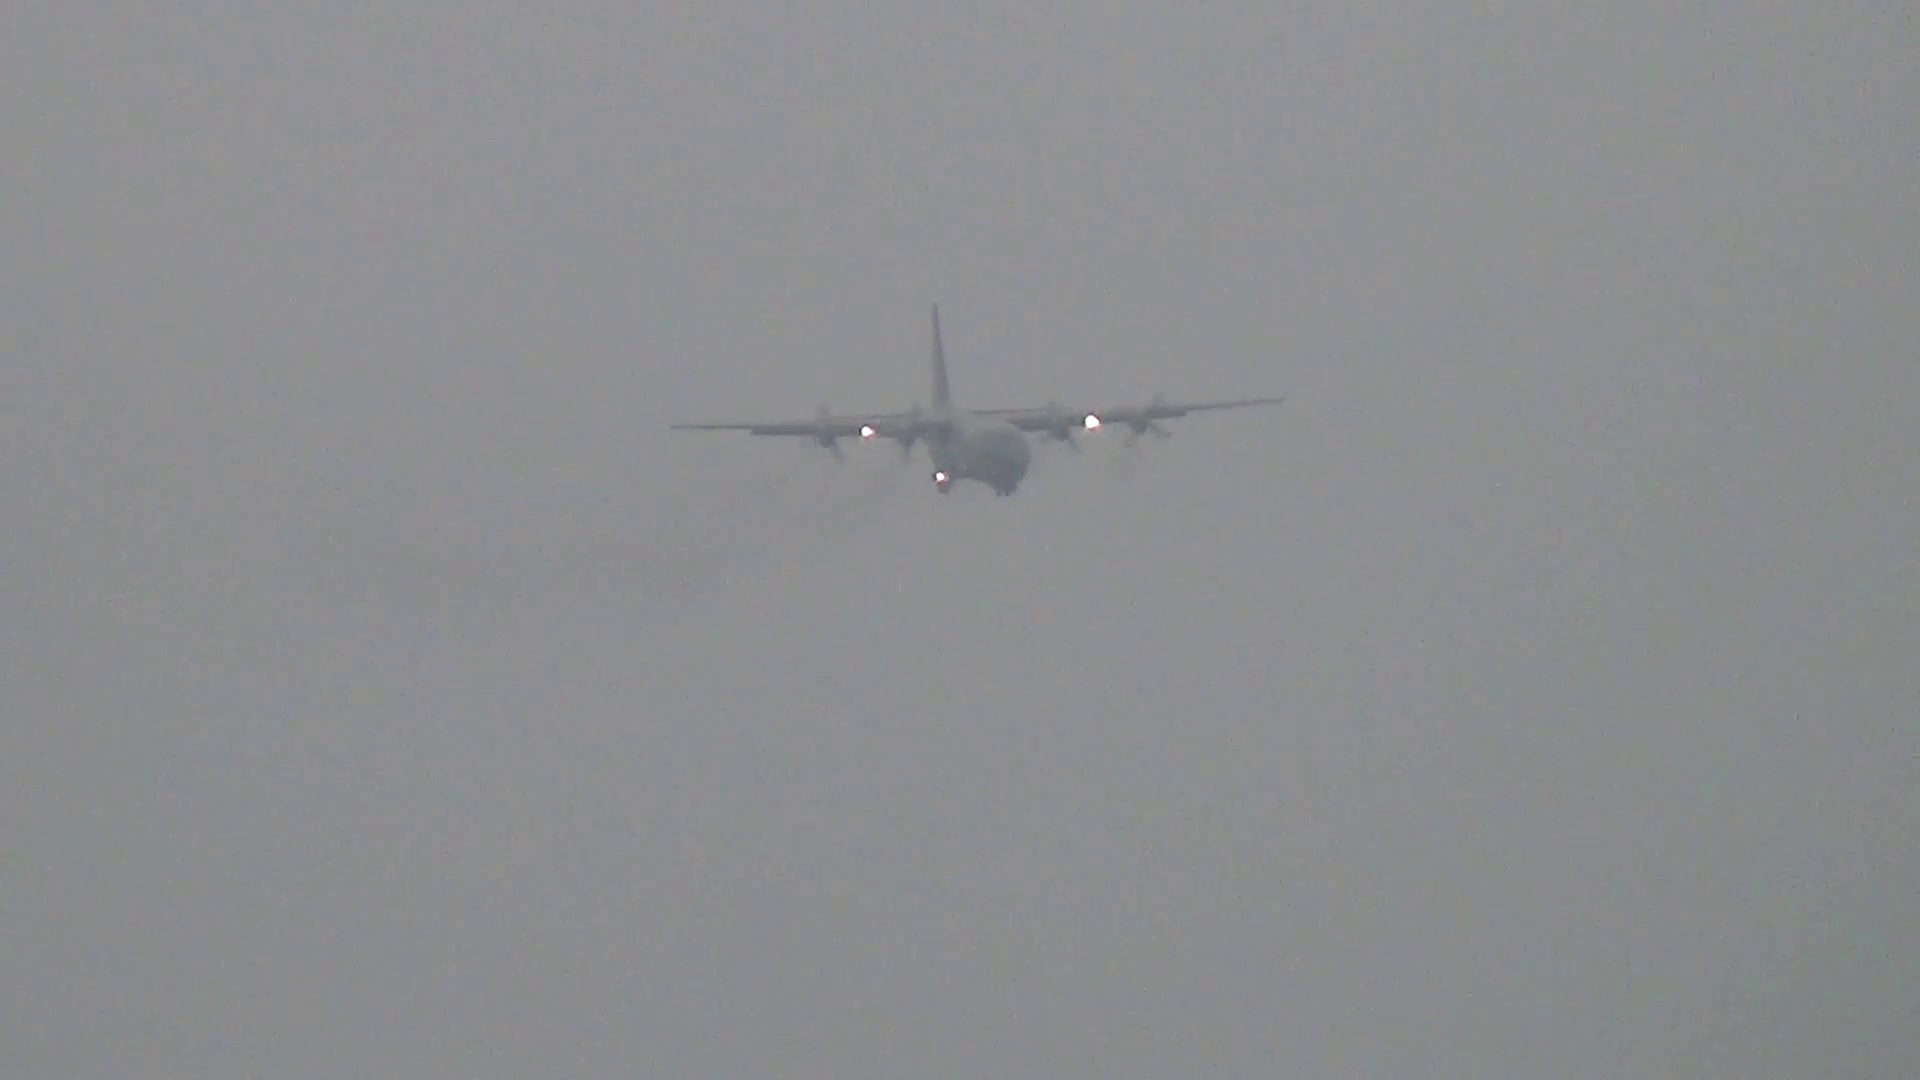Airplane: (666, 293, 1286, 500)
